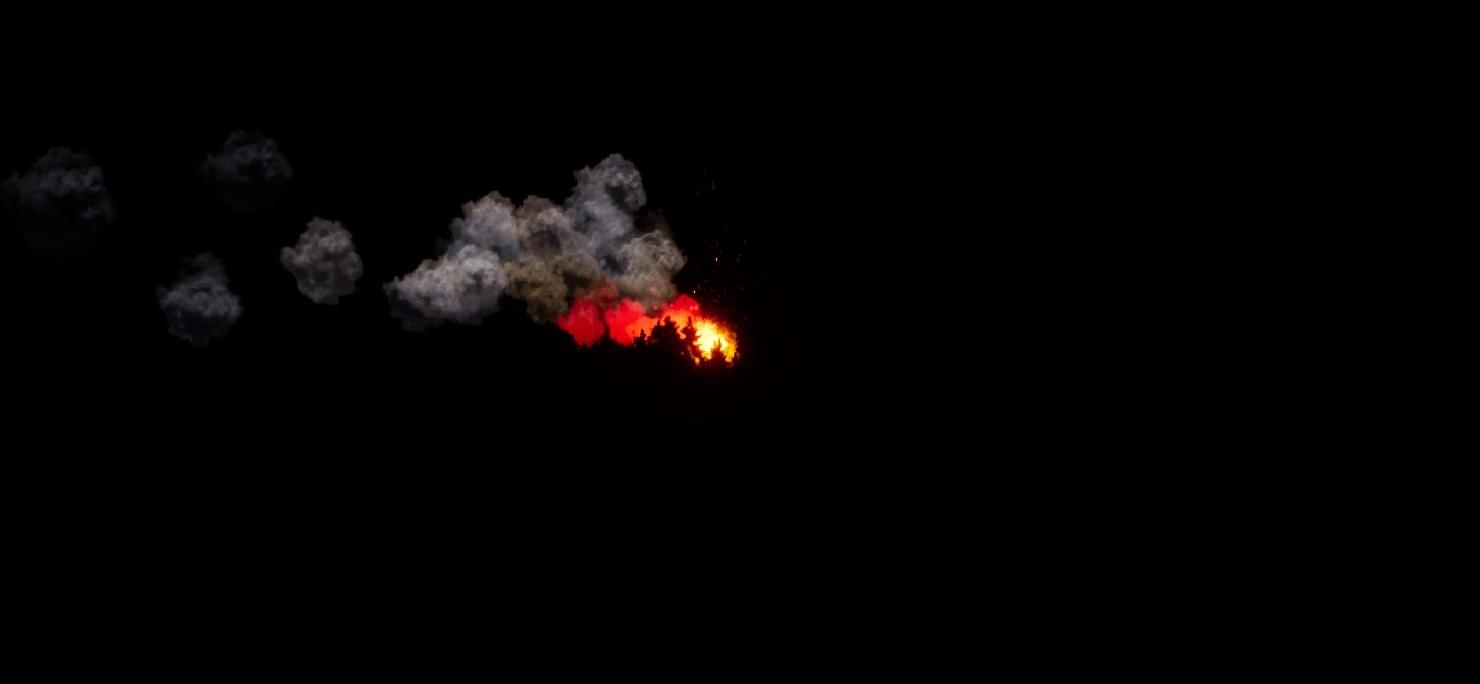fire: (557, 293, 744, 363)
smoke: (154, 150, 693, 327)
